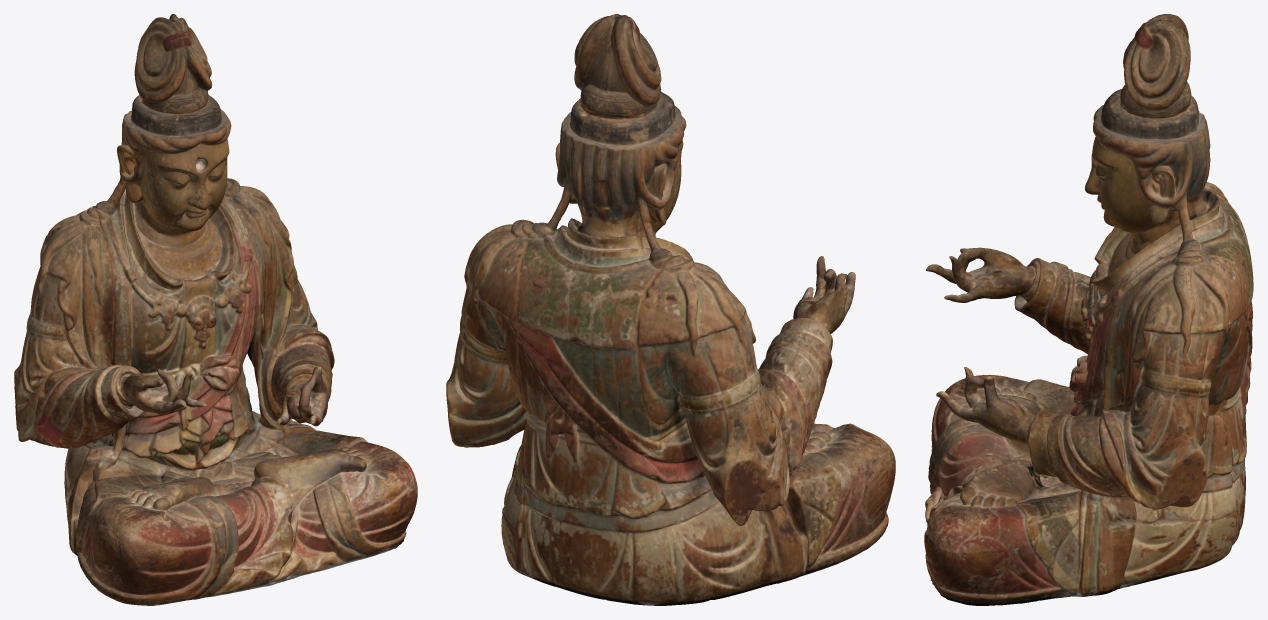
The model's file is statue.glb.
3 views of the same model, side by side, from view 1: azimuth 30°, elevation 25°; view 2: azimuth 150°, elevation 25°; view 3: azimuth 270°, elevation 25° (orthographic). The views are drawn at different scales.
Parts seen in each view (by area): view 1: Object_2; view 2: Object_2; view 3: Object_2.
Boxes of the visible parts, x1,y1,x2,y2 form: Object_2: [14, 14, 417, 605]; Object_2: [446, 14, 895, 605]; Object_2: [924, 14, 1253, 605].
Bounding box in the file's own units: 1.14 × 1.77 × 1.02.
1 material, 1 textured.
